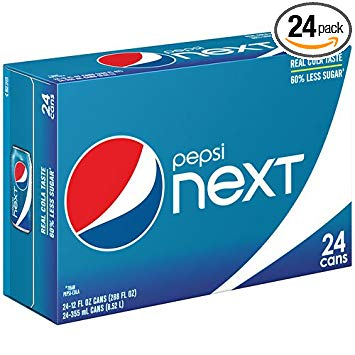pepsi: (63, 133, 163, 252), (96, 53, 175, 67), (12, 160, 28, 190)
